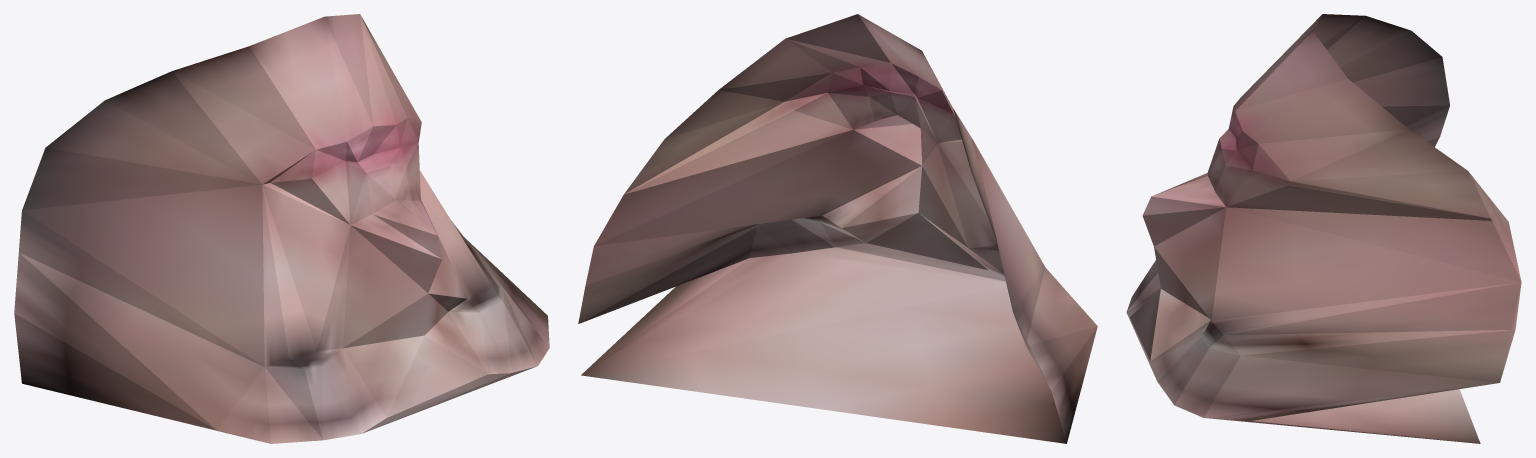
The model's file is fake_3655.obj.
The picture shows the model from 3 angles, left to right: view 1: azimuth 30°, elevation 25°; view 2: azimuth 150°, elevation 25°; view 3: azimuth 270°, elevation 25°; orthographic projection. The views are drawn at different scales.
Size of the model in its own units: 115 by 85 by 93.48.
